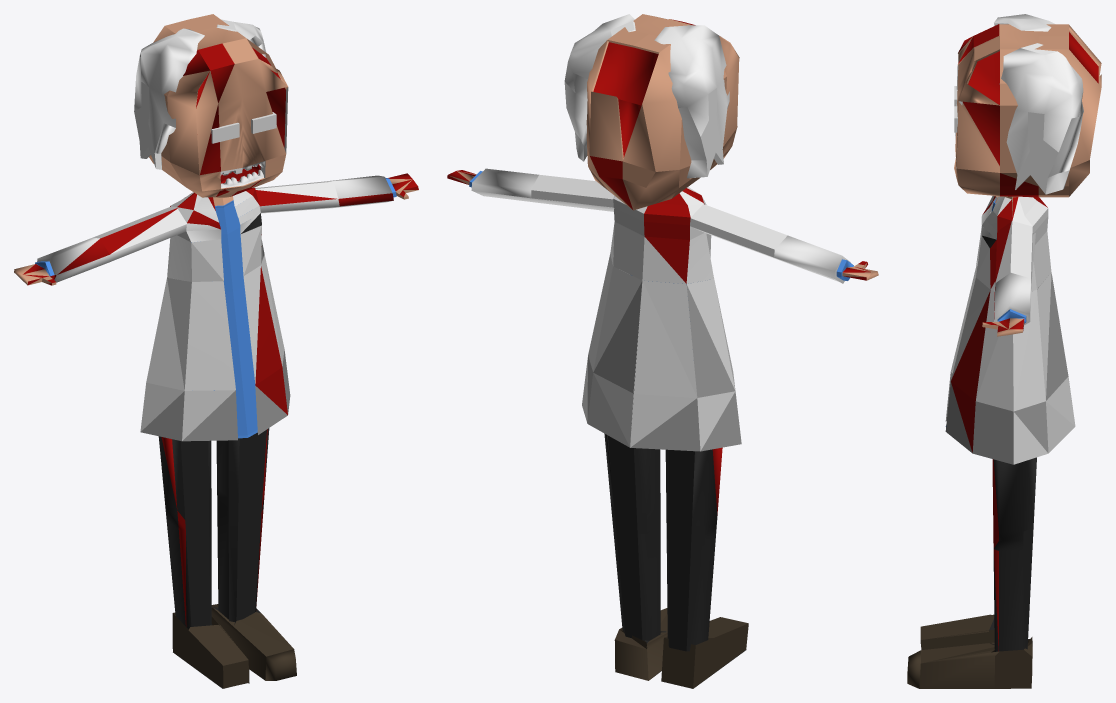
File: zombies.glb
3 renders of one model, left to right at view 1: azimuth 30°, elevation 25°; view 2: azimuth 150°, elevation 25°; view 3: azimuth 270°, elevation 25°, orthographic. The views are drawn at different scales.
Parts seen in each view (by area): view 1: Shirt; view 2: Shirt; view 3: Shirt.
Boxes of the visible parts, box(x1,y1,x2,y2) form: Shirt: box(14, 14, 418, 688); Shirt: box(447, 14, 878, 688); Shirt: box(907, 14, 1101, 688).
Size of the model in its own units: 1.5 by 2.24 by 0.6166.
